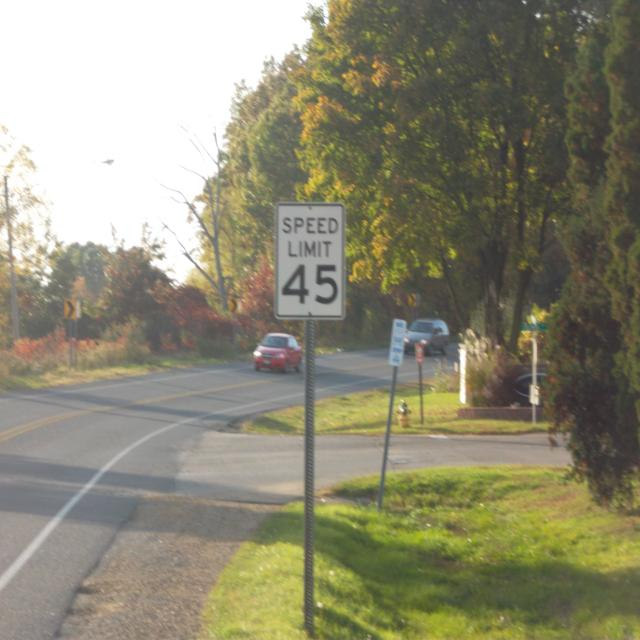regulatory: (272, 198, 348, 323)
